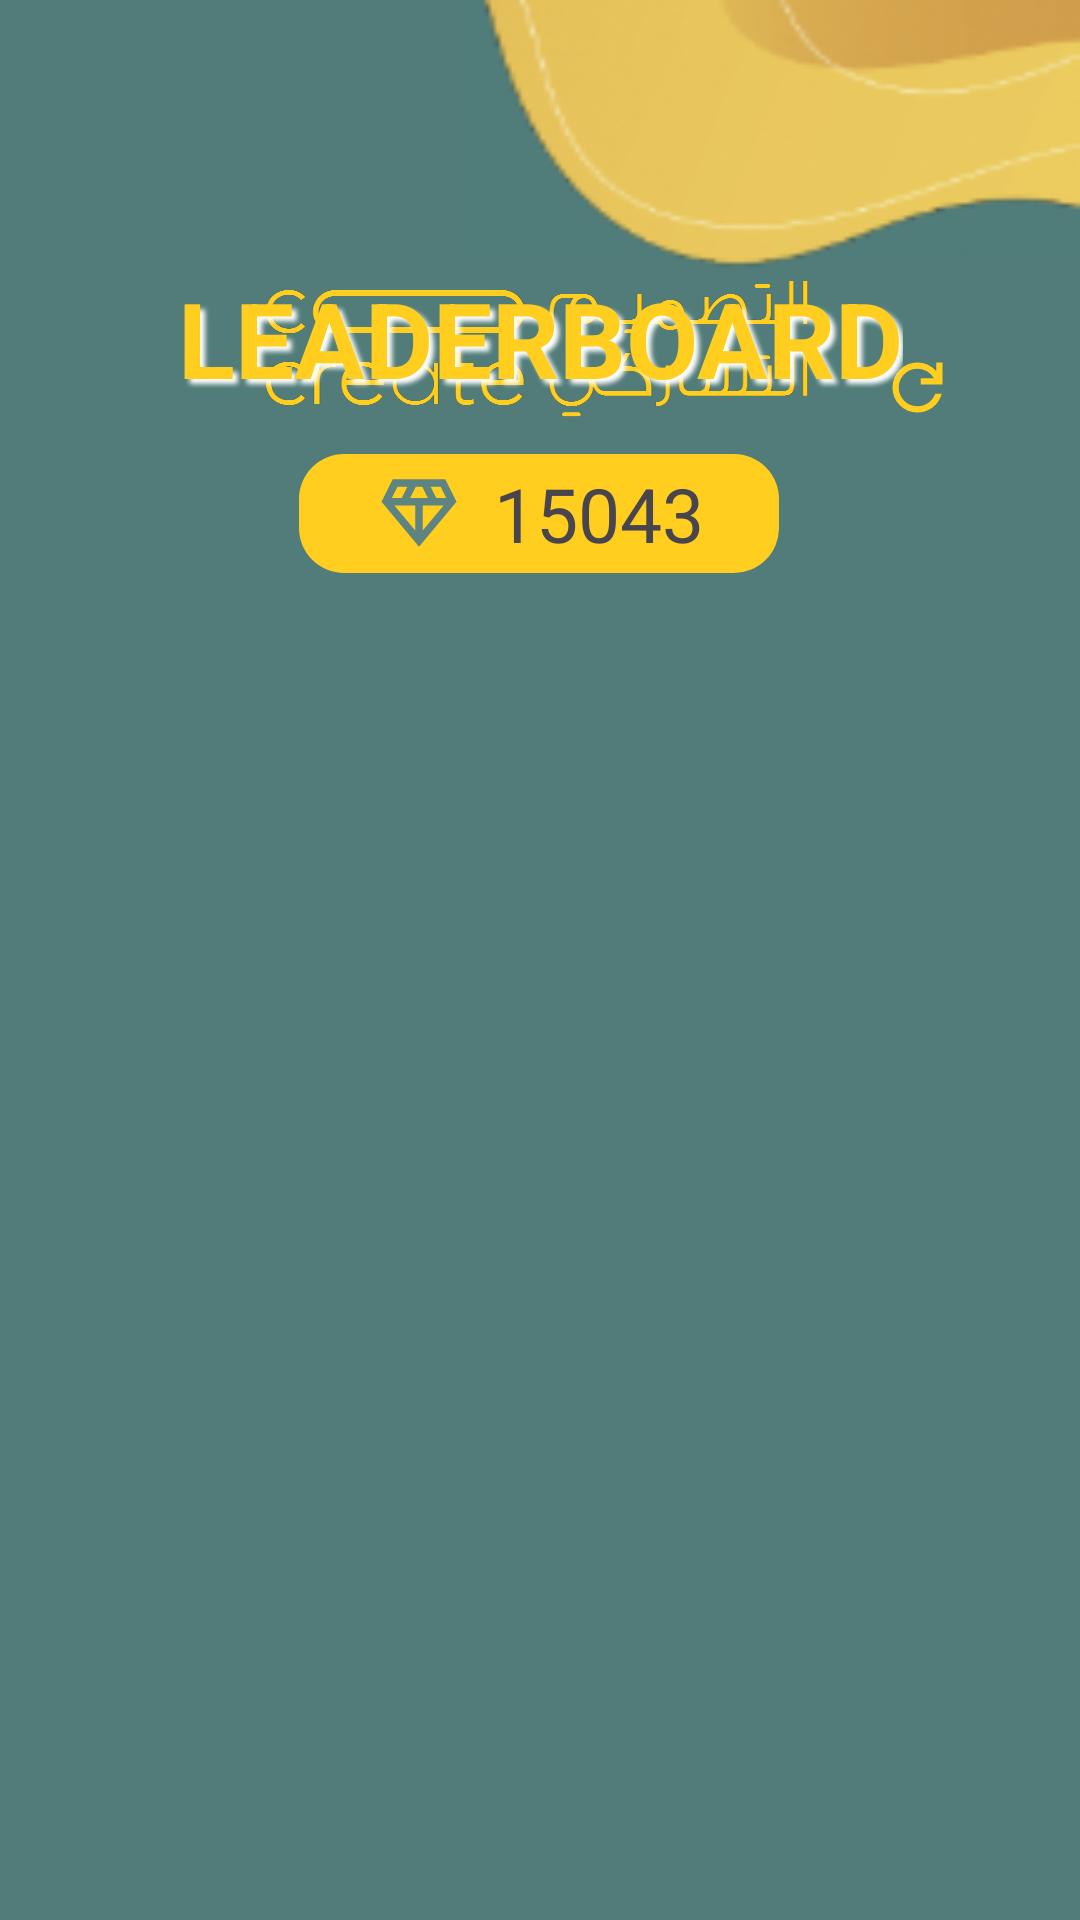

Where icons sit on this 1080px×1920px app screen, as (x1, y1, x2, y2):
refresh: (880, 342, 943, 413)
